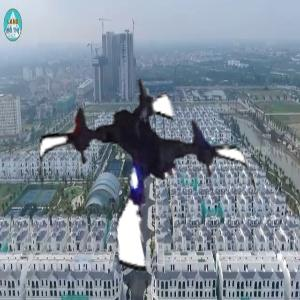drone: (35, 65, 260, 290)
